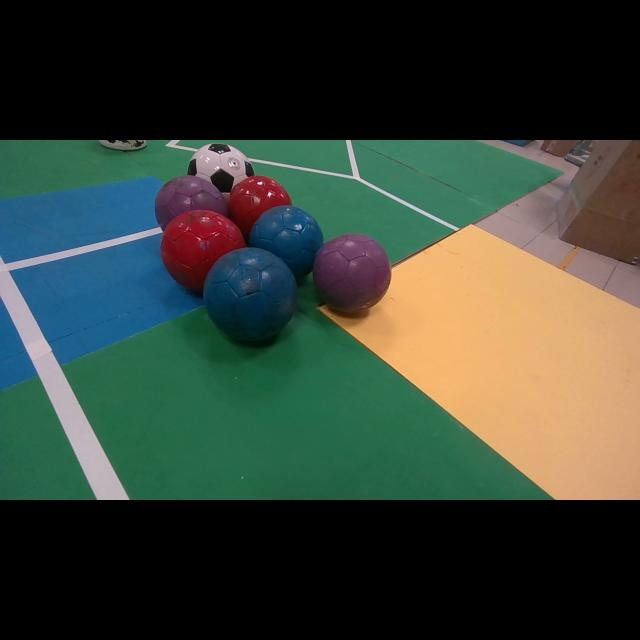B: (204, 248, 298, 341), (249, 205, 324, 279)
P: (312, 234, 391, 314), (155, 175, 228, 230)
R: (160, 210, 246, 292), (229, 176, 292, 242)
